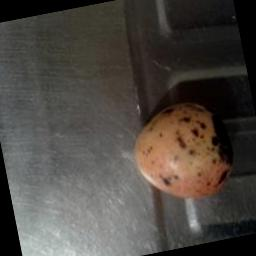Mango Rotten: (111, 76, 256, 221)
